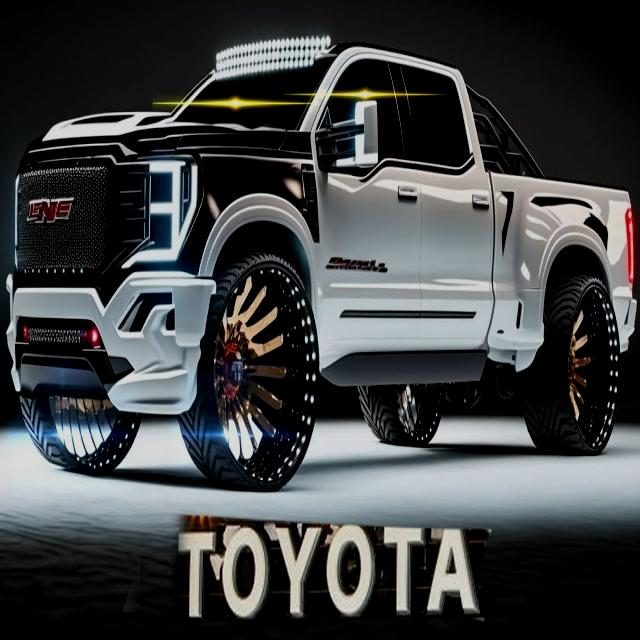CMT: (5, 38, 637, 492)
